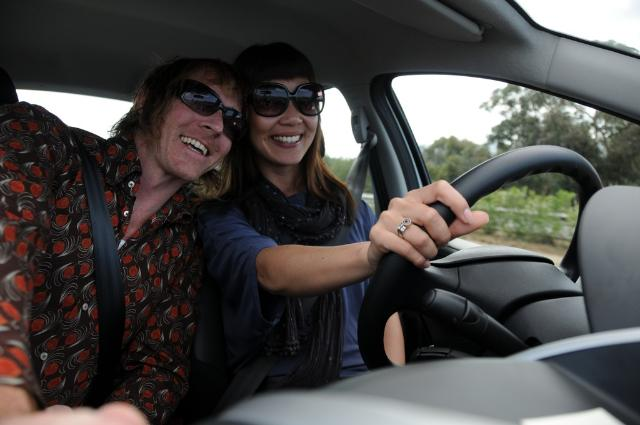Seatbelt: (72, 130, 126, 405)
